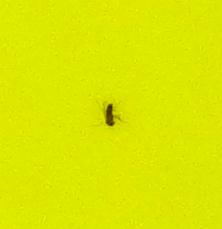Brachycera: (100, 100, 122, 129)
